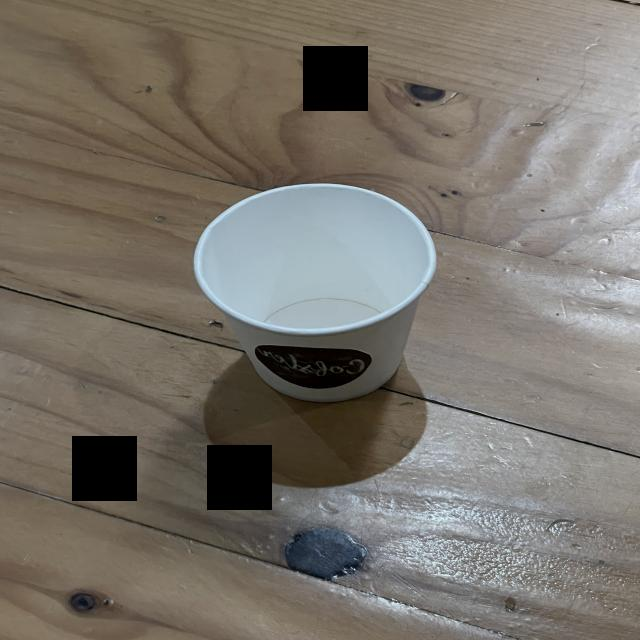cup: (188, 172, 445, 410)
